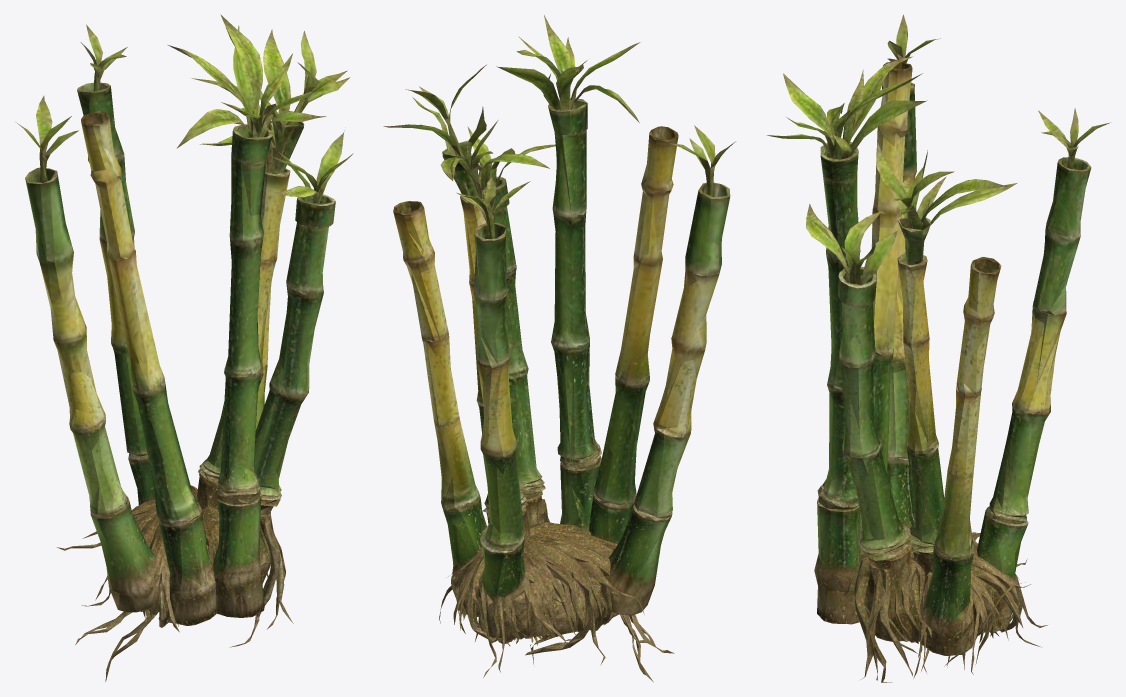
File: plant-bamboo-final.glb
The picture shows the model from 3 angles, left to right: view 1: azimuth 30°, elevation 25°; view 2: azimuth 150°, elevation 25°; view 3: azimuth 270°, elevation 25°; orthographic projection. The views are drawn at different scales.
Visible parts, largest first — view 1: output_unwrapped; view 2: output_unwrapped; view 3: output_unwrapped.
Boxes of the visible parts, x1,y1,x2,y2 form: output_unwrapped: (16, 14, 353, 681); output_unwrapped: (383, 15, 735, 682); output_unwrapped: (767, 14, 1110, 682).
Bounding box in the file's own units: 0.5583 × 0.999 × 0.5047.
Materials: 1 (1 with a texture image).
